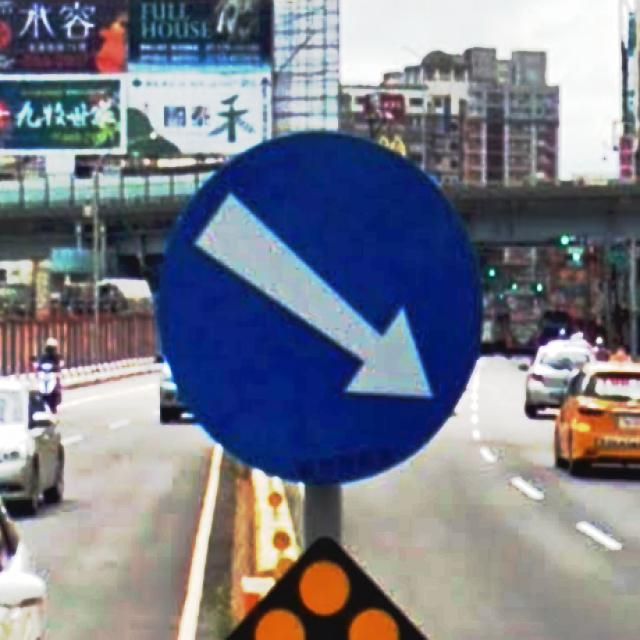thisway: (152, 125, 486, 488)
